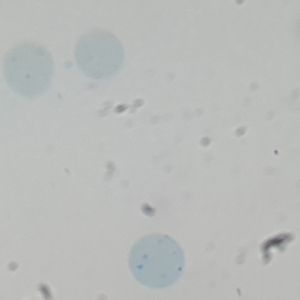erythrocyte: (71, 29, 126, 81)
punctate reticulocyte: (126, 232, 186, 290), (1, 41, 56, 99)
